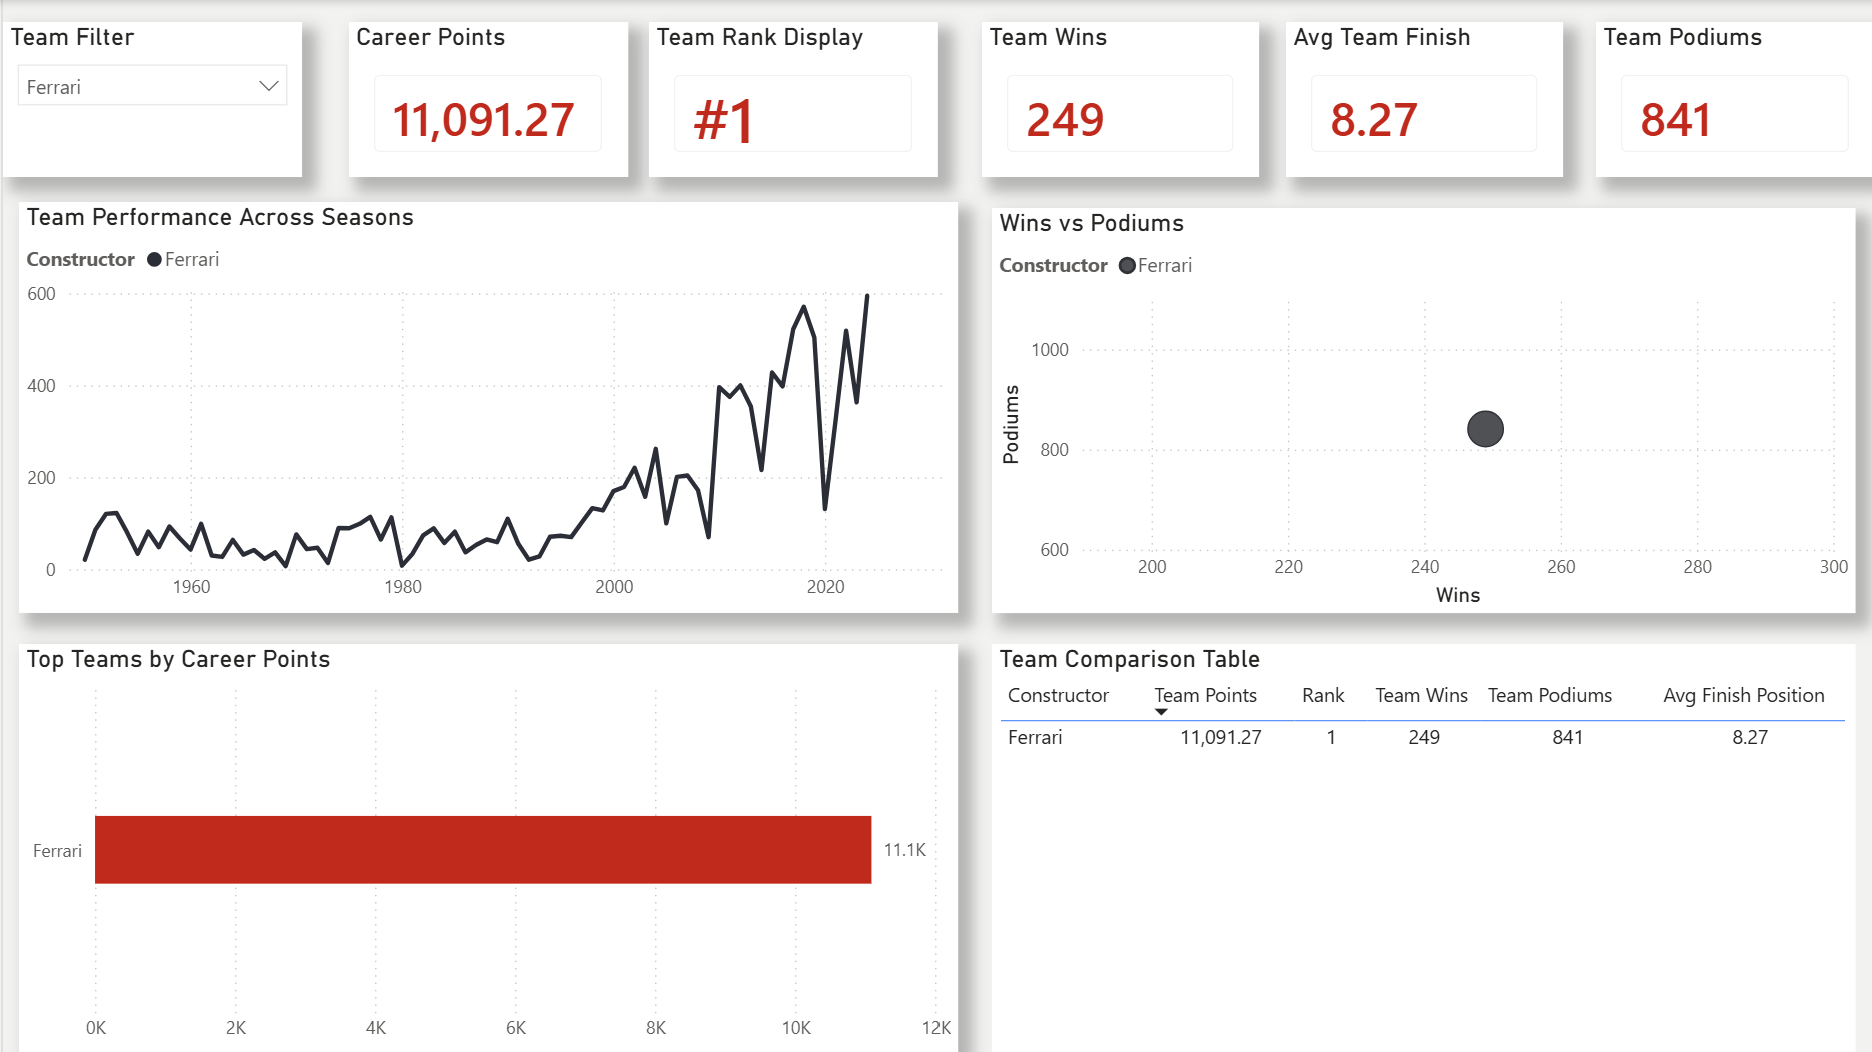

This screenshot's page, from the dashboard's own definition file:
{"tool":"powerbi","page":{"name":"Constructor Performance Analysis","canvas":[1280,720],"ordinal":2},"visuals":[{"type":"slicer","title":"Team Filter","fields":{"Values":["team_kpis.constructor_name"]},"box":[0,14.8,204.4,106.2],"z":0},{"type":"cardVisual","title":"Career Points","fields":{"Data":["team_kpis.Team Points"]},"box":[236.6,14.8,190.9,106.2],"z":1000},{"type":"cardVisual","title":"Team Wins","fields":{"Data":["team_kpis.Team Wins"]},"box":[668.2,14.8,189.6,106.2],"z":2000},{"type":"cardVisual","title":"Team Podiums","fields":{"Data":["team_kpis.Team Podiums"]},"box":[1089.1,14.8,190.9,106.2],"z":3000},{"type":"cardVisual","title":"Avg Team Finish","fields":{"Data":["team_kpis.Avg Team Finish"]},"box":[876.6,14.8,189.6,106.2],"z":4000},{"type":"cardVisual","title":"Team Rank Display","fields":{"Data":["team_kpis.Team Rank"]},"box":[442.4,14.8,197.6,106.2],"z":5000},{"type":"lineChart","title":"Team Performance Across Seasons","fields":{"Category":["season_team_kpis.year"],"Y":["Sum(season_team_kpis.season_points)"],"Series":["season_team_kpis.constructor_name"]},"box":[10.8,138.5,641.3,281],"z":6000},{"type":"scatterChart","title":"Wins vs Podiums","fields":{"X":["team_kpis.wins"],"Y":["team_kpis.podiums"],"Size":["team_kpis.Team Points"],"Series":["team_kpis.constructor_name"]},"box":[675,142.5,590.3,277],"z":7000},{"type":"barChart","title":"Top Teams by Career Points","fields":{"Y":["Sum(team_kpis.total_points)"],"Category":["team_kpis.constructor_name"]},"box":[10.8,439.7,641.3,281],"z":8000},{"type":"tableEx","title":"Team Comparison Table","fields":{"Values":["team_kpis.constructor_name","team_kpis.total_points","team_kpis.points_rank","team_kpis.wins","team_kpis.podiums","team_kpis.avg_finish"]},"box":[675,439.7,590.3,281],"z":9000}]}

Visuals, with their boxes in screenshot pixels (x1, y1, x2, y2), scaled from the page's 1280x720 canvas onto the 1872x1052 screenshot:
"Team Filter" slicer: detection(0, 22, 299, 177)
"Career Points" cardVisual: detection(346, 22, 625, 177)
"Team Wins" cardVisual: detection(977, 22, 1255, 177)
"Team Podiums" cardVisual: detection(1593, 22, 1871, 177)
"Avg Team Finish" cardVisual: detection(1282, 22, 1559, 177)
"Team Rank Display" cardVisual: detection(647, 22, 936, 177)
"Team Performance Across Seasons" lineChart: detection(16, 202, 954, 613)
"Wins vs Podiums" scatterChart: detection(987, 208, 1851, 613)
"Top Teams by Career Points" barChart: detection(16, 642, 954, 1051)
"Team Comparison Table" tableEx: detection(987, 642, 1851, 1051)
